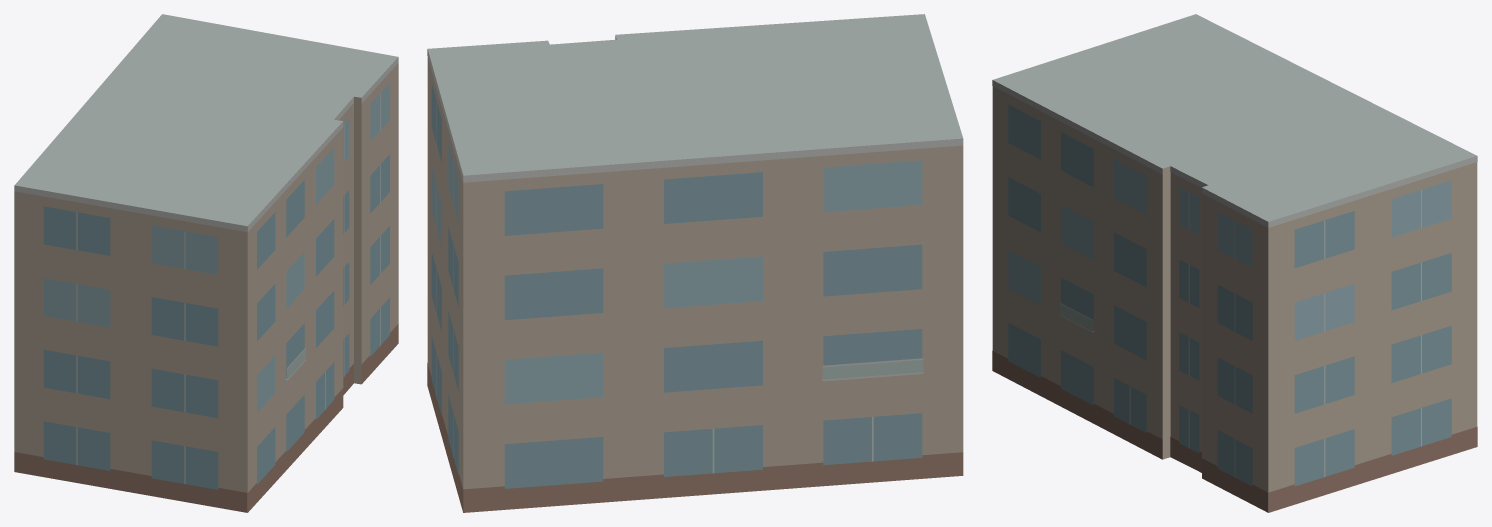
Rendered from survey-upis-32777940.glb.
3 views of the same model, side by side, from view 1: azimuth 30°, elevation 25°; view 2: azimuth 150°, elevation 25°; view 3: azimuth 270°, elevation 25° (orthographic). The views are drawn at different scales.
Parts seen in each view (by area): view 1: survey-upis-32777940.tmp; view 2: survey-upis-32777940.tmp; view 3: survey-upis-32777940.tmp.
Part boxes in pixels (<box>): survey-upis-32777940.tmp: <box>14,14,398,512</box>; survey-upis-32777940.tmp: <box>427,14,963,512</box>; survey-upis-32777940.tmp: <box>992,14,1477,512</box>.
Bounding box in the file's own units: 18.09 × 11.8 × 17.84.
